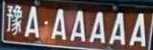A: (25, 6, 39, 38)
